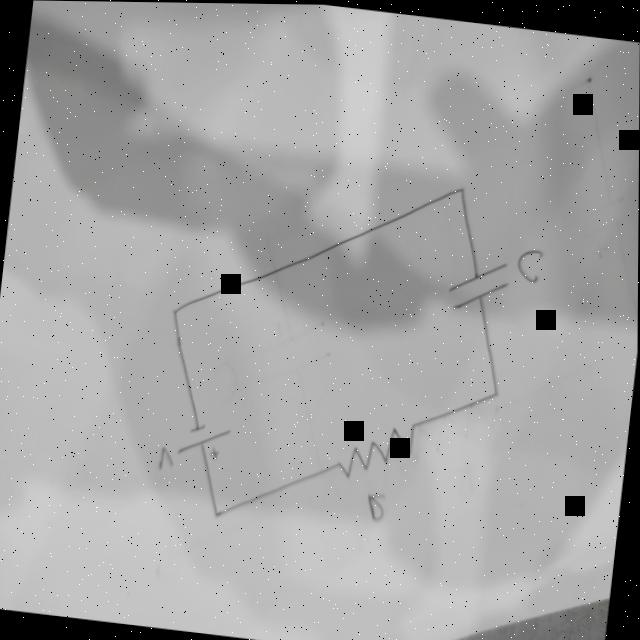capacitor: (443, 253, 512, 315)
junction: (209, 503, 224, 521), (168, 302, 181, 320), (489, 385, 499, 400), (455, 182, 464, 195)
resistor: (330, 408, 417, 485)
source: (175, 419, 231, 460)
text: (513, 244, 543, 283), (362, 487, 387, 522), (154, 443, 175, 471)
